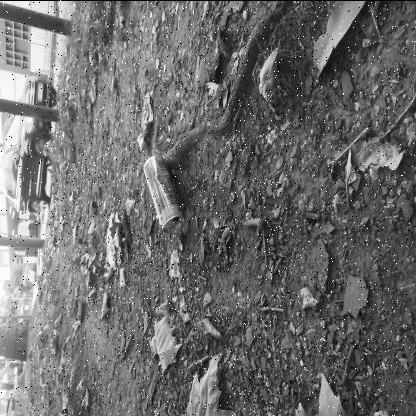metal: (142, 154, 185, 233)
